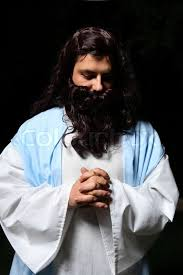middle_eastern_male: (66, 46, 121, 99)
